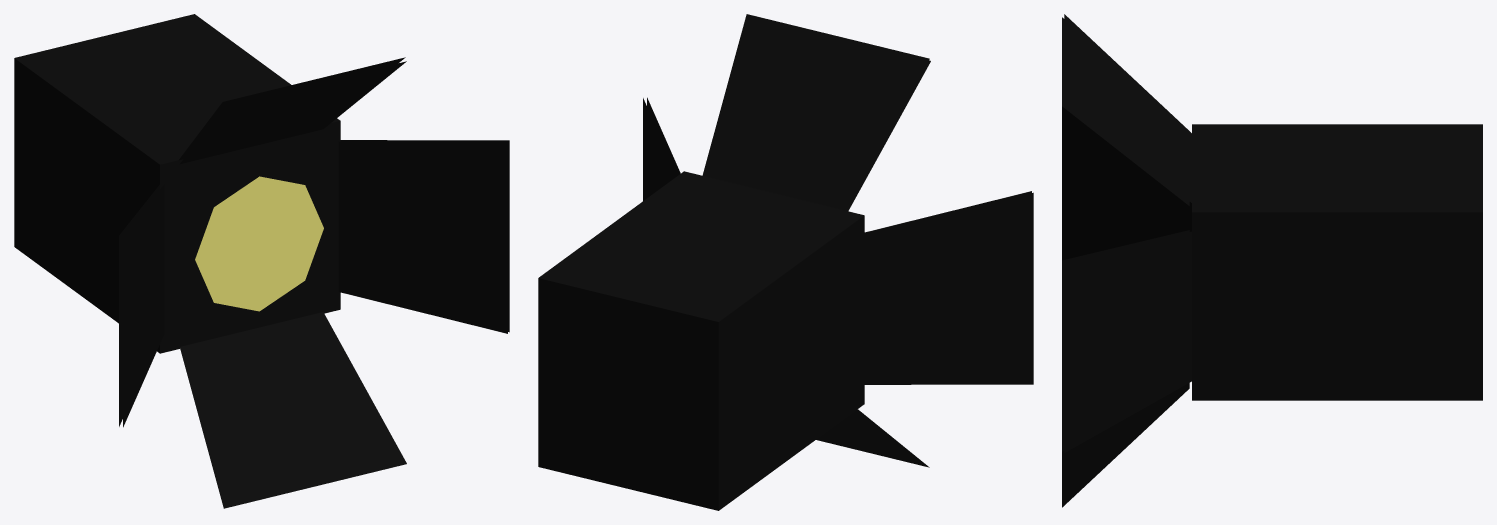
File: SM_Spotlight.fbx
3 renders of one model, left to right at view 1: azimuth 30°, elevation 25°; view 2: azimuth 150°, elevation 25°; view 3: azimuth 270°, elevation 25°, orthographic.
Parts seen in each view (by area): view 1: Projecteur; view 2: Projecteur; view 3: Projecteur.
Boxes of the visible parts, box(x1,y1,x2,y2) form: Projecteur: box(14, 14, 509, 508); Projecteur: box(538, 14, 1033, 510); Projecteur: box(1062, 14, 1482, 507).
Size of the model in its own units: 21.31 by 21.31 by 19.94.
